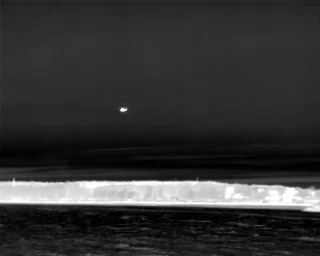HELICOPTER: (117, 103, 131, 117)
